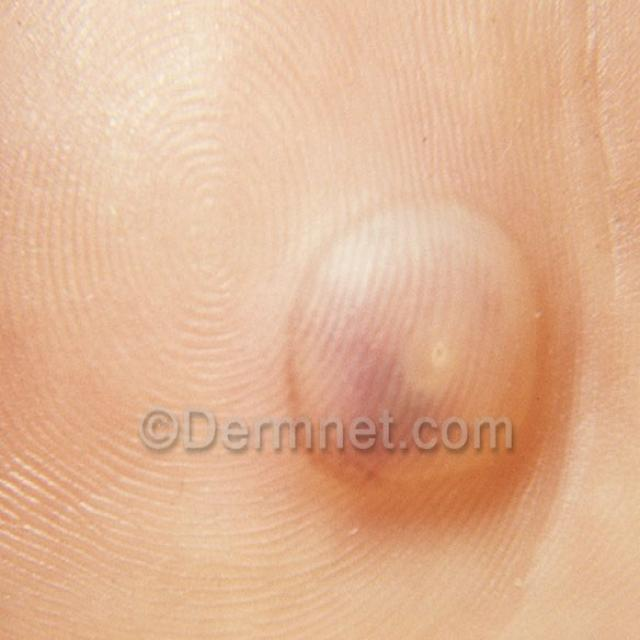Warts: (289, 188, 548, 513)
